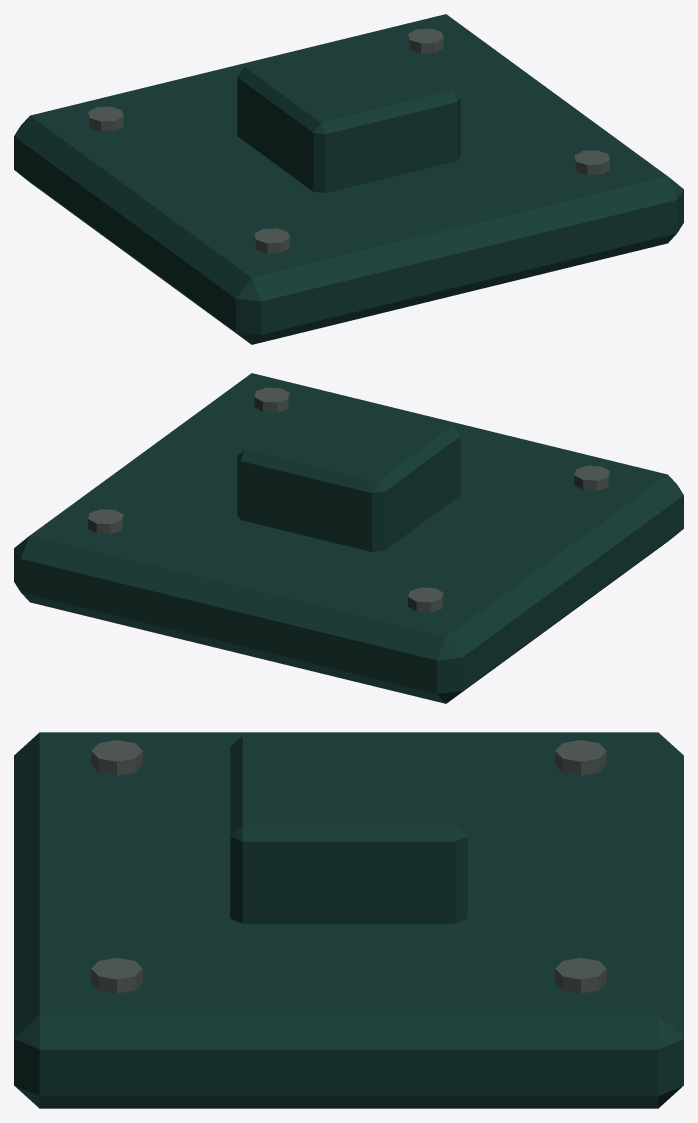
3 views of the same model, one above another, from view 1: azimuth 30°, elevation 25°; view 2: azimuth 150°, elevation 25°; view 3: azimuth 270°, elevation 25° (orthographic). The views are drawn at different scales.
Parts seen in each view (by area): view 1: NEW_FL3_base; view 2: NEW_FL3_base; view 3: NEW_FL3_base.
Boxes of the visible parts, <box> form: NEW_FL3_base: <box>14,14,683,344</box>; NEW_FL3_base: <box>14,373,683,703</box>; NEW_FL3_base: <box>14,732,683,1108</box>.
Size of the model in its own units: 0.7 by 0.2 by 0.65.
